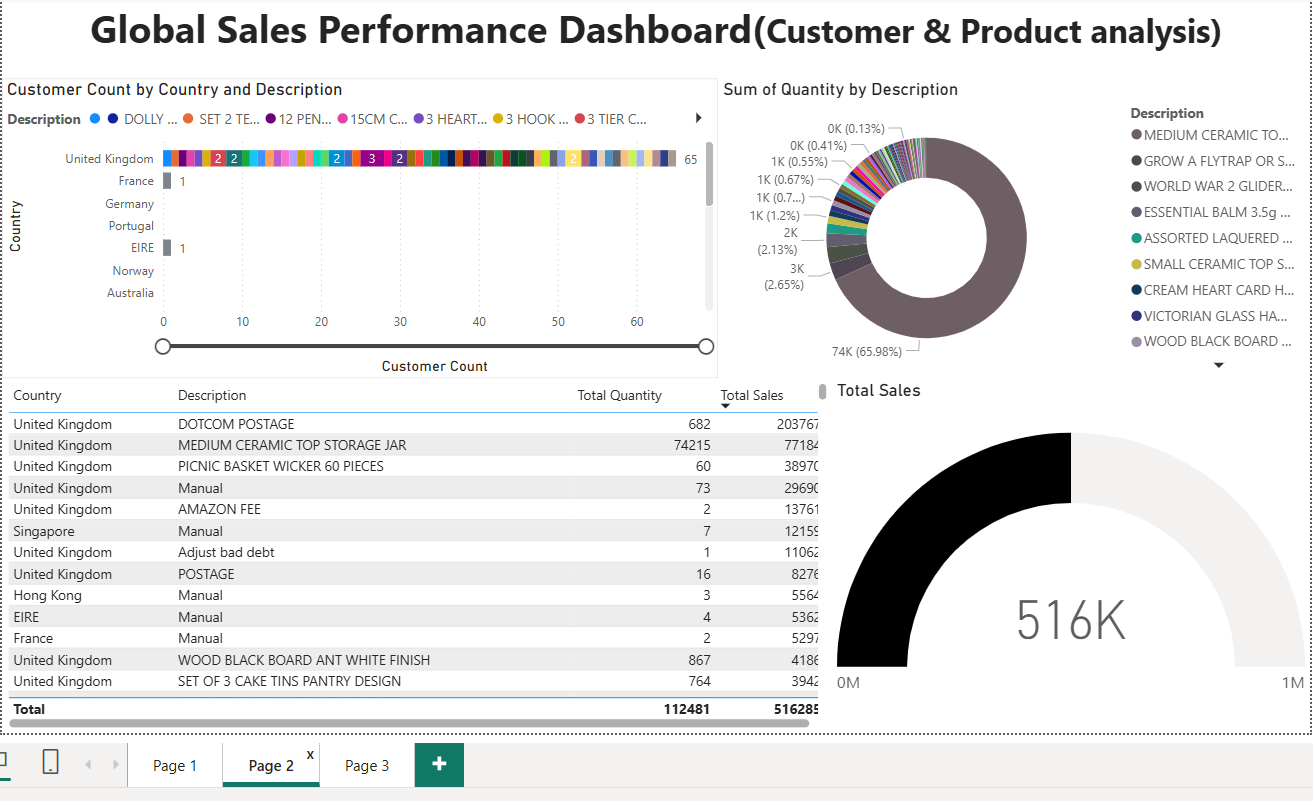

Layout of this report page (visuals, bound fields, positions):
{"tool":"powerbi","page":{"name":"Page 2","canvas":[1280,720],"ordinal":1},"visuals":[{"type":"barChart","fields":{"Category":["Orders.Country"],"Series":["Orders.Description"],"Y":["Orders.Customer Count"]},"box":[0,79.6,701.2,293.7],"z":0},{"type":"textbox","box":[0,0,1280.3,79.6],"z":1},{"type":"donutChart","fields":{"Category":["Orders.Description"],"Y":["Sum(Orders.Quantity)"]},"box":[701.2,79.6,579.1,293.7],"z":2},{"type":"tableEx","fields":{"Values":["Orders.Country","Orders.Description","Orders.Total Quantity","Orders.Total Sales"]},"box":[0,373.2,812.4,347.2],"z":3},{"type":"gauge","fields":{"Y":["Orders.Total Sales"]},"box":[812.4,374.6,467.9,345.8],"z":4}]}

Visuals, with their boxes on the page's 1280x720 design canvas (x1, y1, x2, y2). These are canvas units, not pixel positions in the 1313x801 screenshot, which may show the page scaled, cropped or inside an application window:
barChart - Orders.Country x Orders.Description: x1=0 y1=80 x2=701 y2=373
textbox: x1=0 y1=0 x2=1280 y2=80
donutChart - Orders.Description x Sum(Orders.Quantity): x1=701 y1=80 x2=1280 y2=373
tableEx - Orders.Country x Orders.Description: x1=0 y1=373 x2=812 y2=720
gauge - Orders.Total Sales: x1=812 y1=375 x2=1280 y2=720
